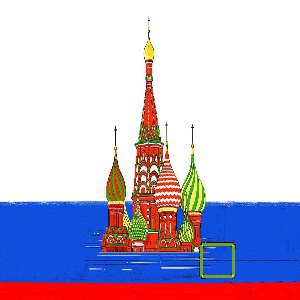square: (199, 241, 236, 280)
